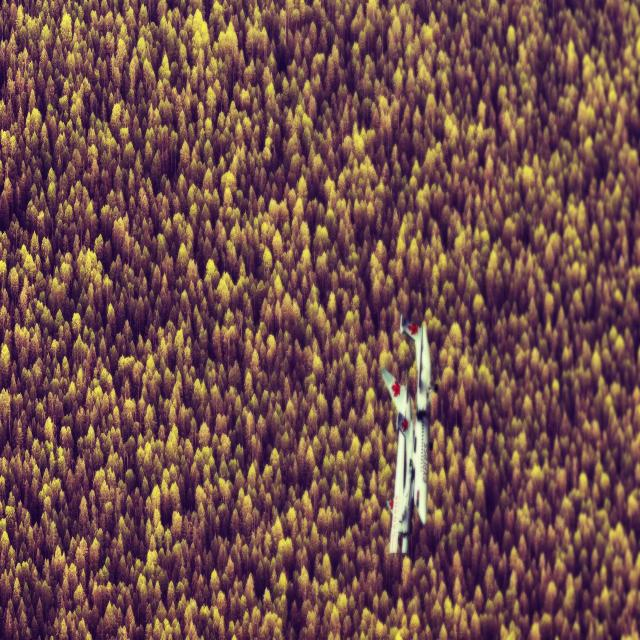airplane: (381, 314, 436, 557)
